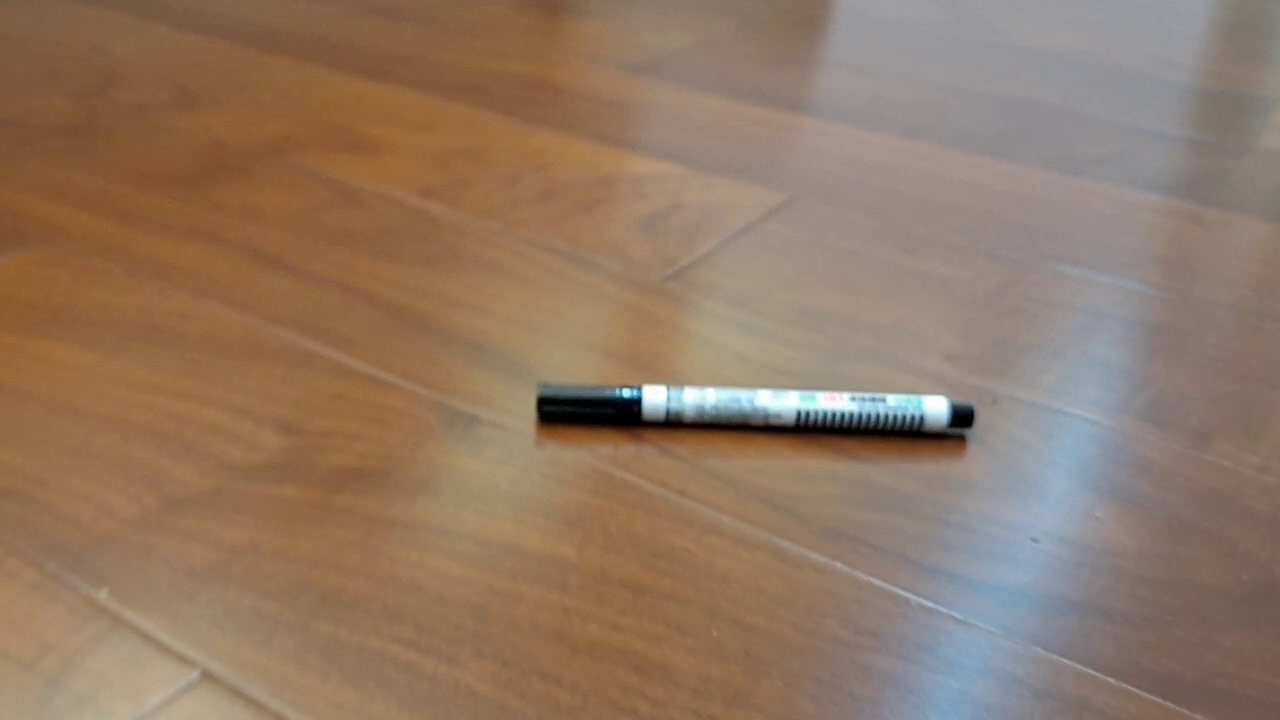pen: (536, 381, 975, 433)
